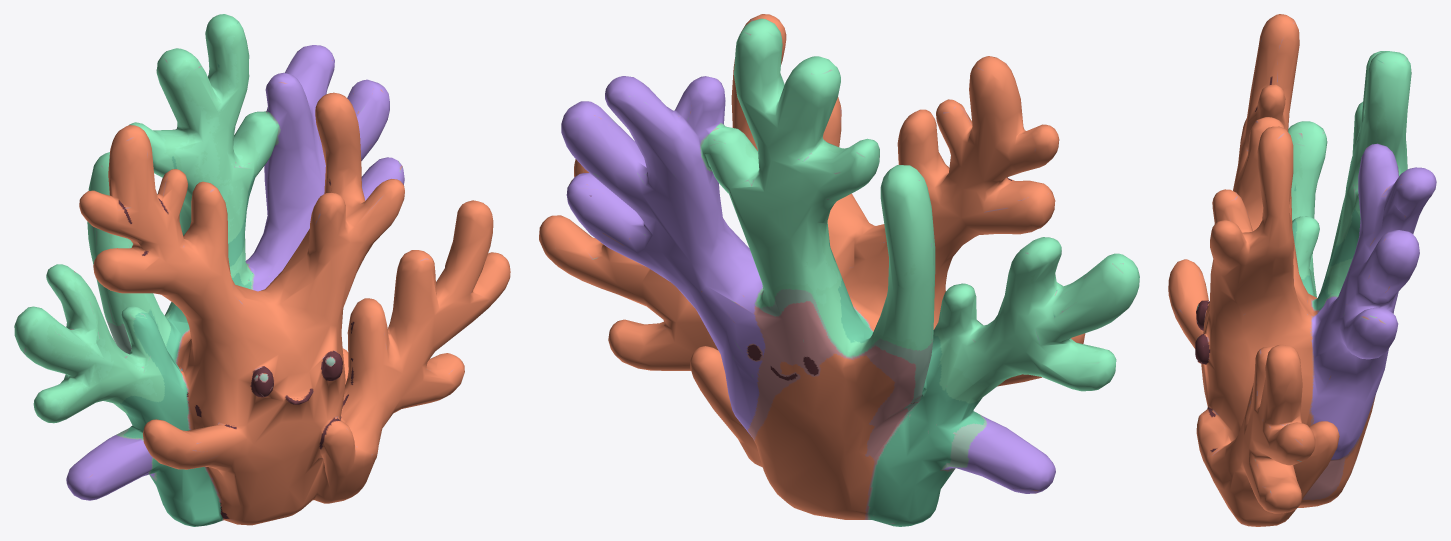
Rendered from coral6.glb.
The picture shows the model from 3 angles, left to right: view 1: azimuth 30°, elevation 25°; view 2: azimuth 150°, elevation 25°; view 3: azimuth 270°, elevation 25°; orthographic projection. The views are drawn at different scales.
Parts seen in each view (by area): view 1: Mesh_0; view 2: Mesh_0; view 3: Mesh_0.
Boxes of the visible parts, box(x1,y1,x2,y2) form: Mesh_0: box(14, 14, 510, 526); Mesh_0: box(539, 14, 1139, 526); Mesh_0: box(1168, 14, 1436, 526).
Bounding box in the file's own units: 1.9 × 1.61 × 0.865.
Materials: 1 (1 with a texture image).
